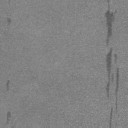red iron: (106, 48, 118, 98), (105, 5, 117, 45), (115, 68, 120, 96), (6, 112, 11, 124), (6, 80, 10, 91), (110, 108, 112, 128), (7, 18, 11, 25)
